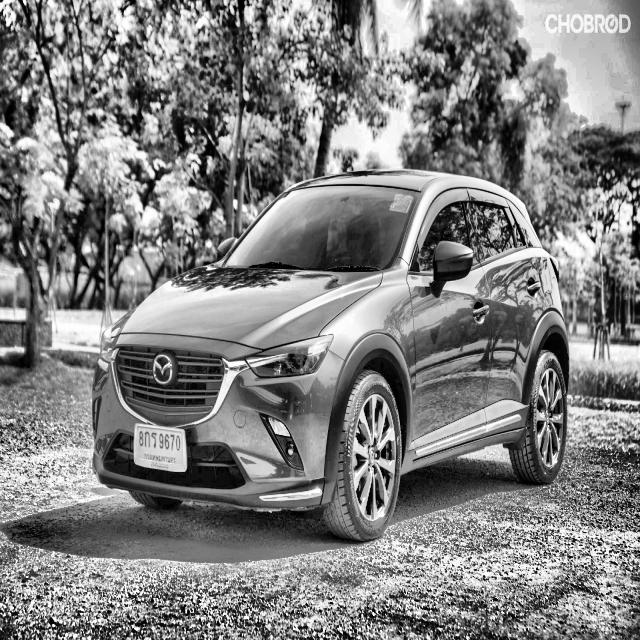license-plate: (129, 419, 193, 477)
